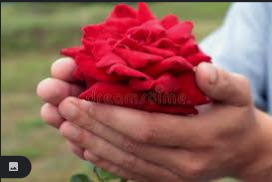RedRose: (53, 2, 215, 113)
